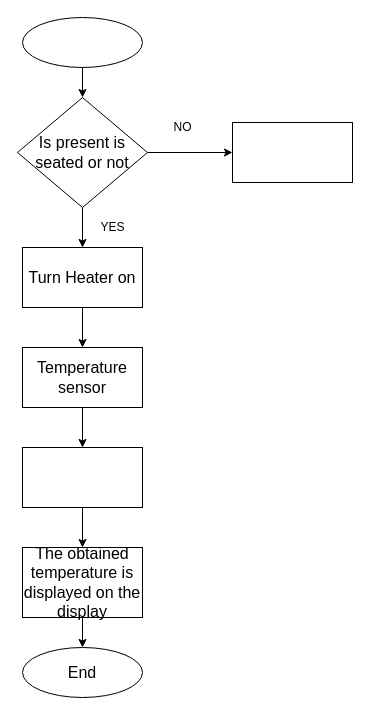
Some shapes in this 370 by 715 pixel diagram are drawn without their labels. The shapes that lost their labels are listed below. From the top down, each one's centre as x and y in pixels, then its label:
the point at 82,42: start
the point at 292,152: Heater off
the point at 82,477: Required Temperature is obtained
